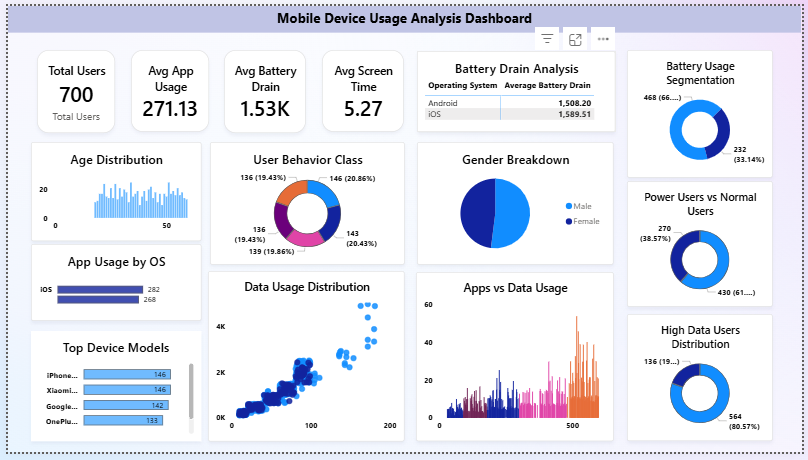

What the dashboard file says about the page in this screenshot:
{"tool":"powerbi","page":{"name":"Mobile Device Usage Analysis Dashboard","canvas":[1280,720],"ordinal":0},"visuals":[{"type":"textbox","box":[0,0,1279.4,42.9],"z":0},{"type":"card","title":"Total Users","fields":{"Values":["KPIs.Total Users"]},"box":[47,70.5,126.4,133.7],"z":1000},{"type":"card","title":"Avg App Usage","fields":{"Values":["KPIs.Average Daily App Usage Time"]},"box":[198.4,70.5,126.4,132.2],"z":2000},{"type":"card","title":"Avg Battery Drain","fields":{"Values":["KPIs.Average Battery Drain"]},"box":[348.2,70.5,132.2,133.7],"z":3000},{"type":"card","title":"Avg Screen Time","fields":{"Values":["KPIs.Average Screen On Time"]},"box":[506.9,70.5,132.2,132.2],"z":4000},{"type":"clusteredColumnChart","title":"Age Distribution","fields":{"Category":["user_behavior_dataset.Age"],"Y":["CountNonNull(user_behavior_dataset.User ID)"]},"box":[36.5,219,274.6,160.3],"z":5000},{"type":"donutChart","title":"User Behavior Class","fields":{"Category":["user_behavior_dataset.User Behavior Class"],"Y":["CountNonNull(user_behavior_dataset.User ID)"]},"box":[325.4,219,314.3,198.4],"z":6000},{"type":"pieChart","title":"Gender Breakdown","fields":{"Category":["user_behavior_dataset.Gender"],"Y":["CountNonNull(user_behavior_dataset.User ID)"]},"box":[660.3,219,317.5,198.4],"z":7000},{"type":"pivotTable","title":"Battery Drain Analysis","fields":{"Rows":["user_behavior_dataset.Operating System"],"Values":["KPIs.Average Battery Drain"]},"box":[659.8,72,320.3,130.8],"z":8000},{"type":"barChart","title":"App Usage by OS","fields":{"Category":["user_behavior_dataset.Operating System"],"Y":["KPIs.Average Daily App Usage Time"]},"box":[36.5,384.1,274.6,123.8],"z":9000},{"type":"barChart","title":"Top Device Models","fields":{"Category":["user_behavior_dataset.Device Model"],"Y":["CountNonNull(user_behavior_dataset.User ID)"]},"box":[36.5,523.8,274.6,177.8],"z":10000},{"type":"scatterChart","title":"Data Usage Distribution","fields":{"X":["Sum(user_behavior_dataset.Number of Apps Installed)"],"Category":["user_behavior_dataset.Data Usage (MB/day)"],"Y":["Sum(user_behavior_dataset.Data Usage (MB/day))"],"Series":["user_behavior_dataset.Operating System"]},"box":[322.2,427,317.5,274.6],"z":11000},{"type":"columnChart","title":"Apps vs Data Usage","fields":{"Category":["user_behavior_dataset.App Usage Time (min/day)"],"Y":["Sum(user_behavior_dataset.Screen On Time (hours/day))"],"Series":["user_behavior_dataset.User Behavior Class"]},"box":[658.7,428.6,319,273],"z":12000},{"type":"donutChart","title":"Power Users vs Normal Users","fields":{"Category":["user_behavior_dataset.Power User"],"Y":["CountNonNull(user_behavior_dataset.User ID)"]},"box":[998.4,282.5,234.9,203.2],"z":13000},{"type":"donutChart","title":"High Data Users Distribution","fields":{"Category":["user_behavior_dataset.High Data User"],"Y":["CountNonNull(user_behavior_dataset.User ID)"]},"box":[998.4,496.8,234.9,204.8],"z":14000},{"type":"donutChart","title":"Battery Usage Segmentation","fields":{"Category":["user_behavior_dataset.Battery Intensive User"],"Y":["CountNonNull(user_behavior_dataset.User ID)"]},"box":[998.4,71.4,234.9,206.3],"z":15000}]}

Visuals, with their boxes in screenshot pixels (x1, y1, x2, y2), scaled from the page's 1280x720 canvas onto the 808x460 screenshot:
textbox: region(0, 0, 807, 27)
"Total Users" card: region(30, 45, 109, 130)
"Avg App Usage" card: region(125, 45, 205, 130)
"Avg Battery Drain" card: region(220, 45, 303, 130)
"Avg Screen Time" card: region(320, 45, 403, 130)
"Age Distribution" clusteredColumnChart: region(23, 140, 196, 242)
"User Behavior Class" donutChart: region(205, 140, 404, 267)
"Gender Breakdown" pieChart: region(417, 140, 617, 267)
"Battery Drain Analysis" pivotTable: region(416, 46, 619, 130)
"App Usage by OS" barChart: region(23, 245, 196, 324)
"Top Device Models" barChart: region(23, 335, 196, 448)
"Data Usage Distribution" scatterChart: region(203, 273, 404, 448)
"Apps vs Data Usage" columnChart: region(416, 274, 617, 448)
"Power Users vs Normal Users" donutChart: region(630, 180, 779, 310)
"High Data Users Distribution" donutChart: region(630, 317, 779, 448)
"Battery Usage Segmentation" donutChart: region(630, 46, 779, 177)
